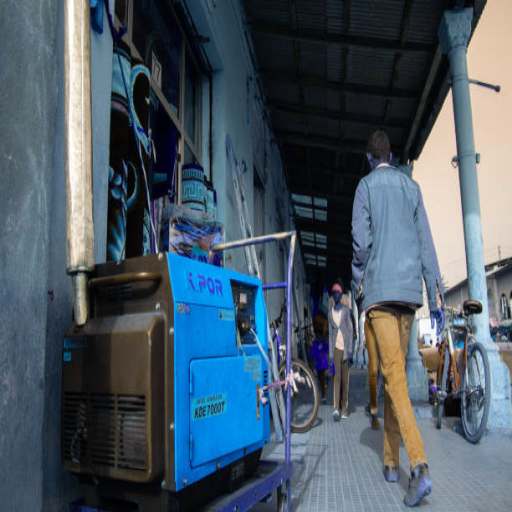portable_generator: (61, 251, 270, 512)
